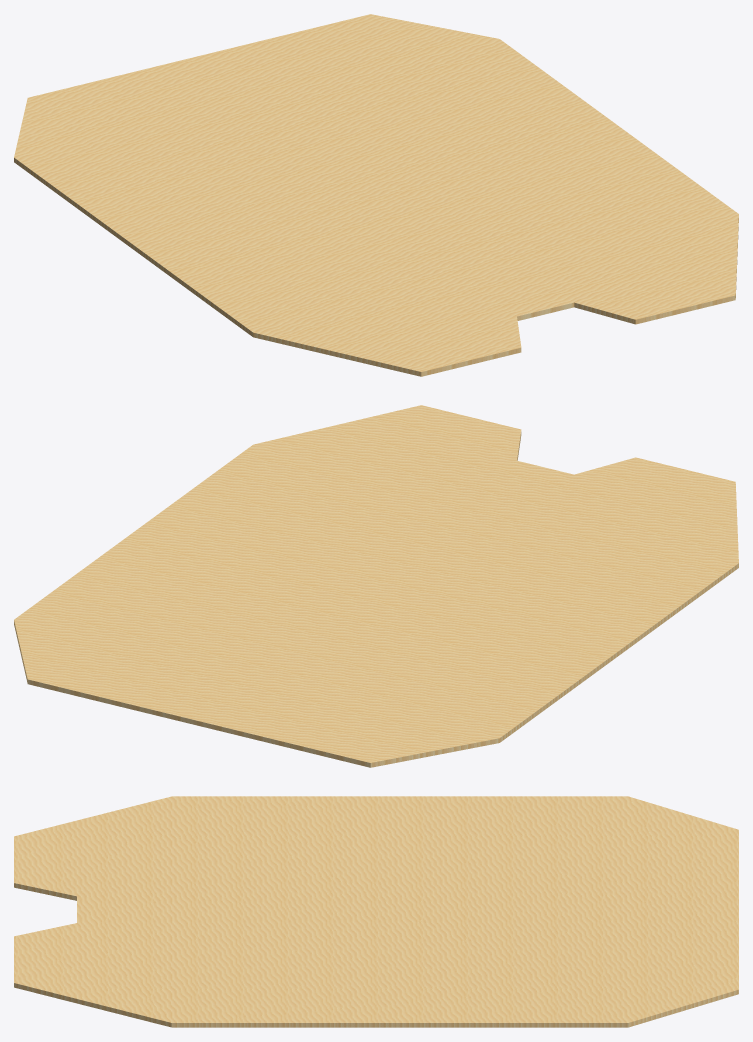
File: seabed-24-C3okBaPe.glb
3 renders of one model, top to bottom at view 1: azimuth 30°, elevation 25°; view 2: azimuth 150°, elevation 25°; view 3: azimuth 270°, elevation 25°, orthographic. The views are drawn at different scales.
Visible parts, largest first — view 1: SW_SandShelf; view 2: SW_SandShelf; view 3: SW_SandShelf.
Part boxes in pixels (bbox=[...]): SW_SandShelf: bbox=[14, 14, 738, 376]; SW_SandShelf: bbox=[14, 405, 738, 767]; SW_SandShelf: bbox=[14, 796, 738, 1027].
Size of what is drawn, in the model's own units: 34 by 0.32 by 46.
Materials: 1 (1 with a texture image).
